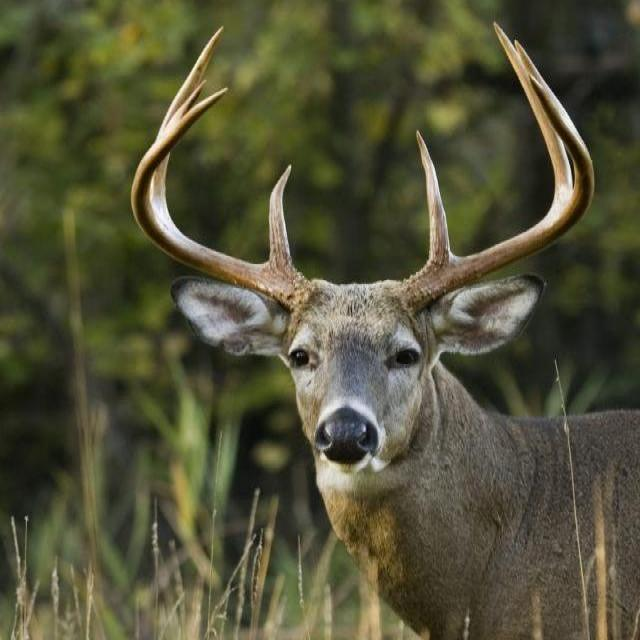deer: (126, 16, 640, 640)
